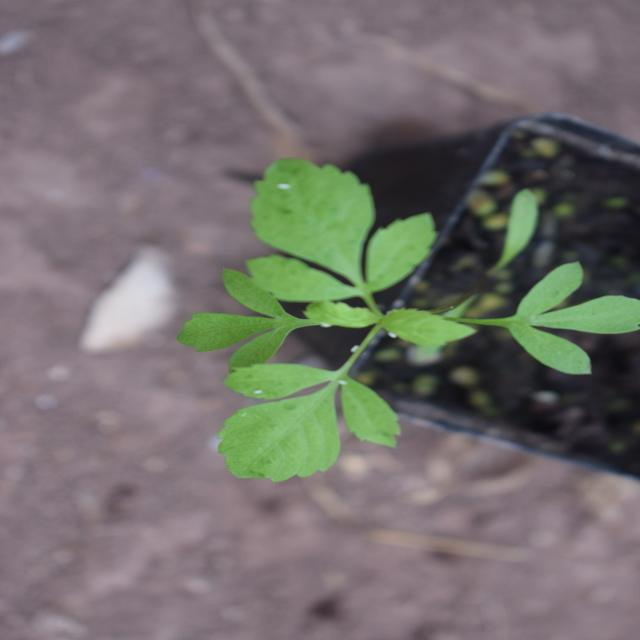Bidens pilosa: (149, 21, 480, 459)
